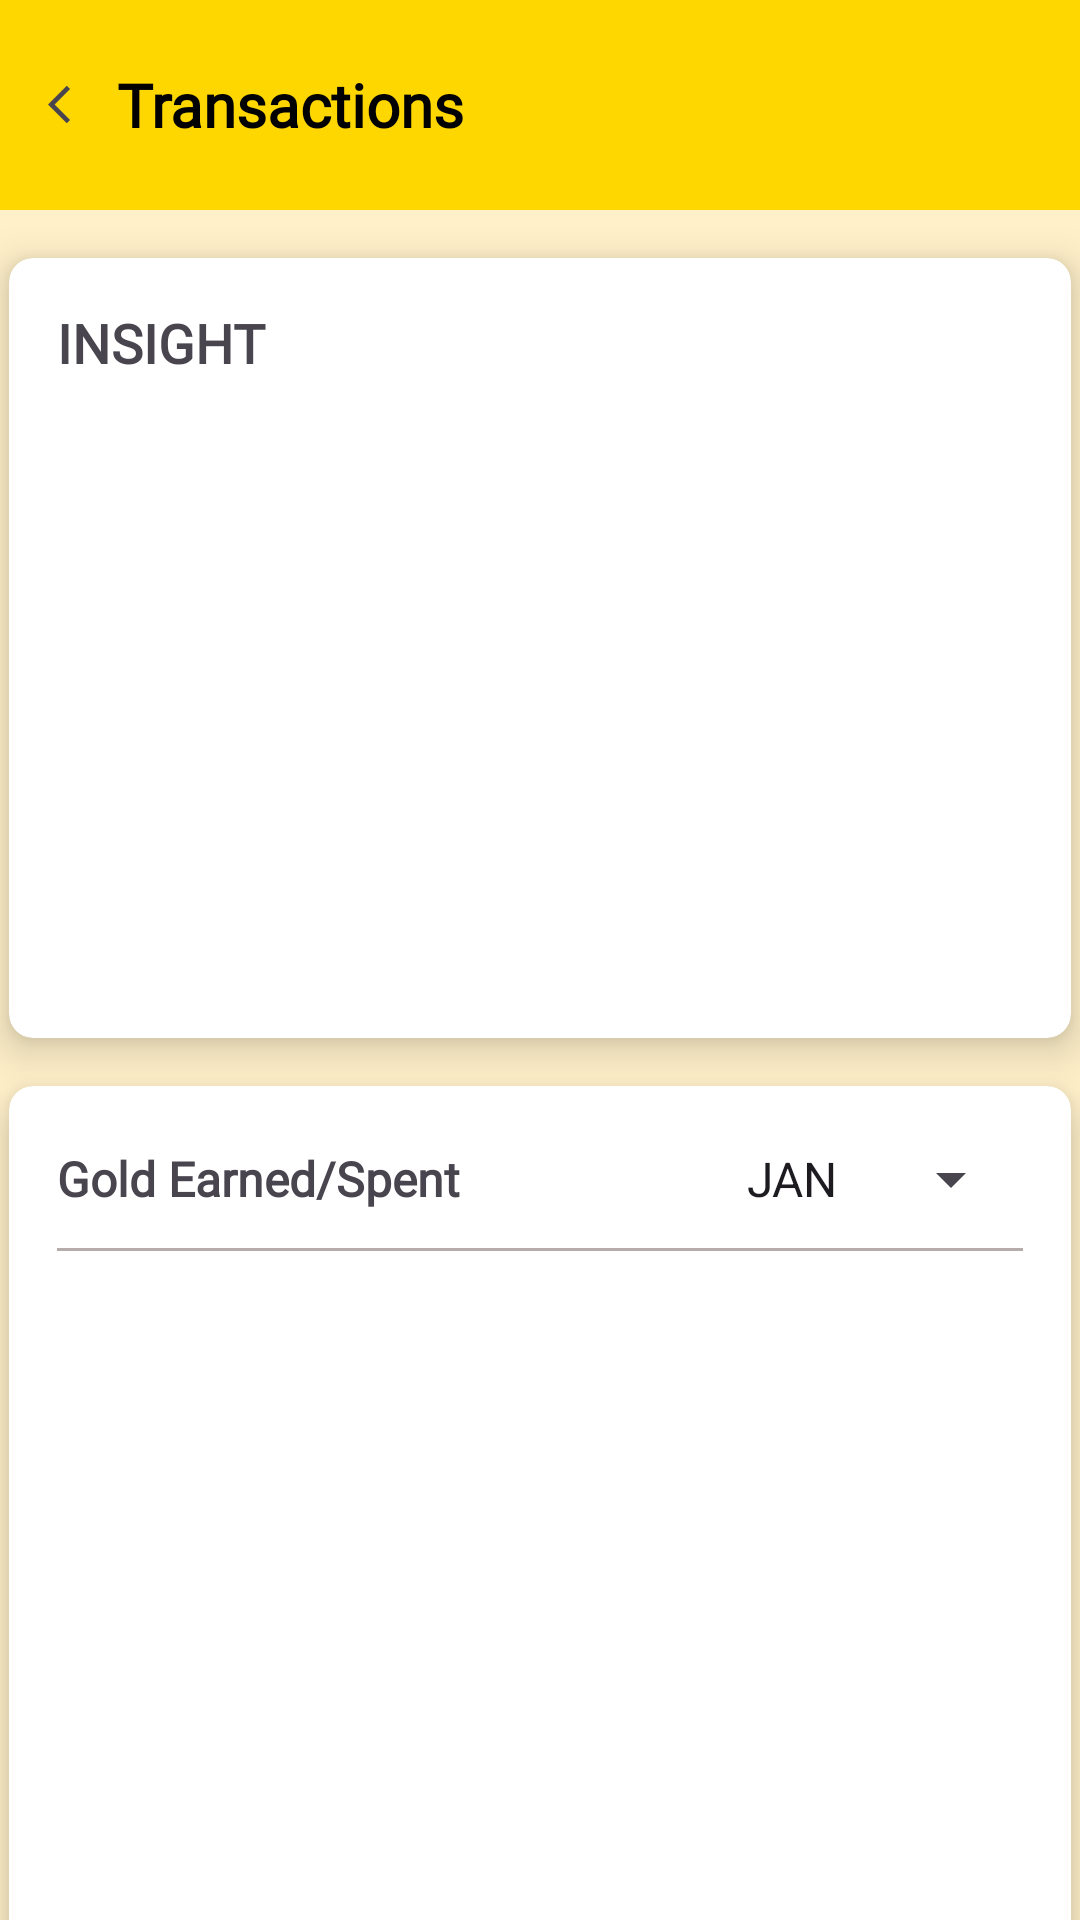

Where icons sit on this 1080 × 1920 app screen, as Rect(x1, y1, x2, y2):
Back button: Rect(48, 86, 70, 123)
